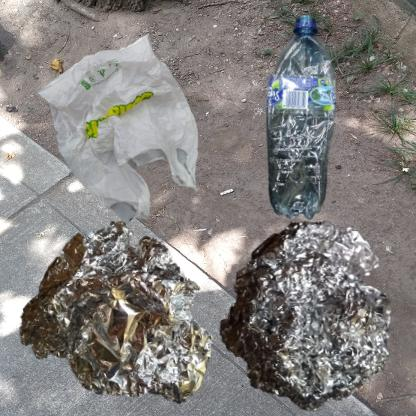aluminio: (10, 213, 219, 416), (213, 213, 400, 416)
bolsa: (10, 10, 240, 249)
botella: (213, 10, 416, 290)
